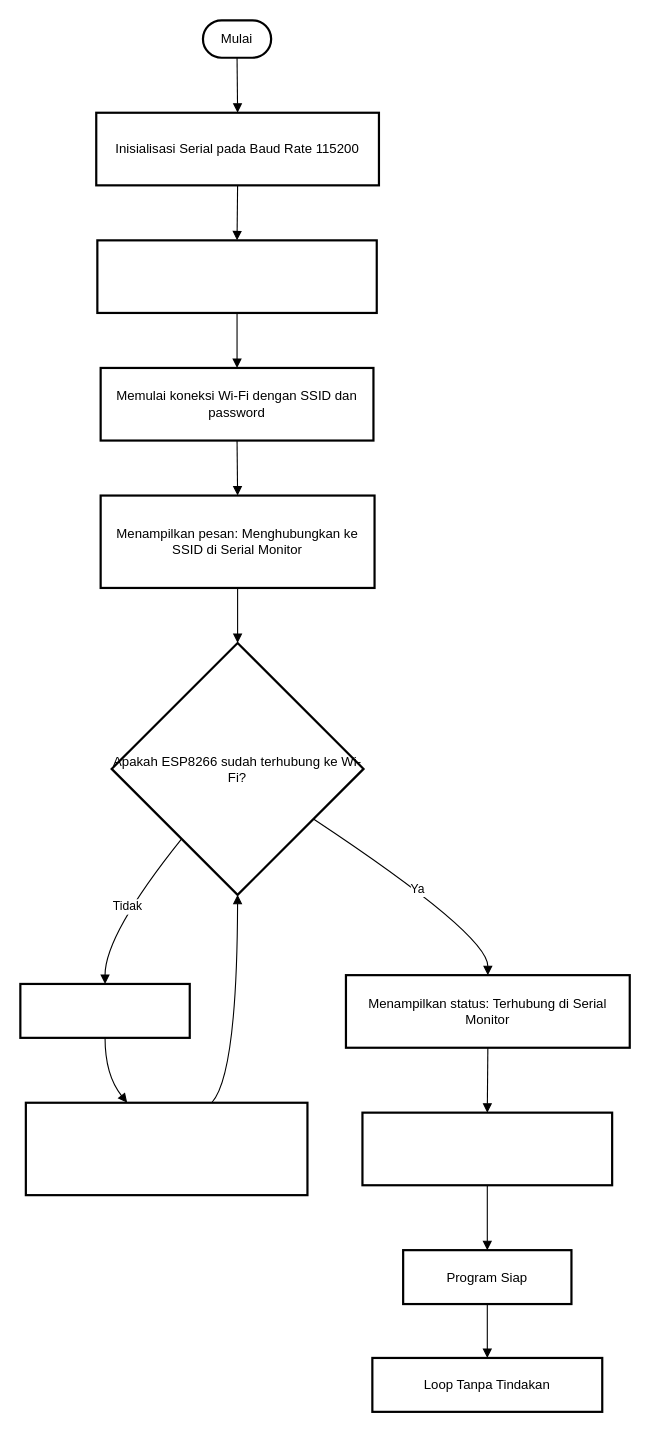
This 649x1431 diagram has some shape labels left out. Each missing label, with the centre of its shape:
"Delay 600 ms" goes at point 104,1010.
"Menampilkan alamat IP lokal di Serial Monitor" goes at point 487,1148.
"Menampilkan angka percobaan koneksi di Serial Monitor" goes at point 166,1148.
"Menampilkan pesan kosong di Serial Monitor" goes at point 236,276.
